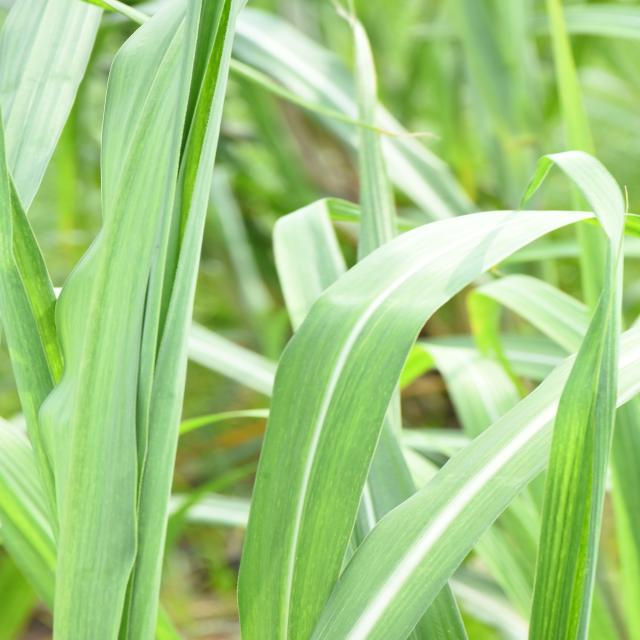Sugarcane: (234, 209, 600, 640), (50, 0, 246, 640), (312, 321, 638, 640)
